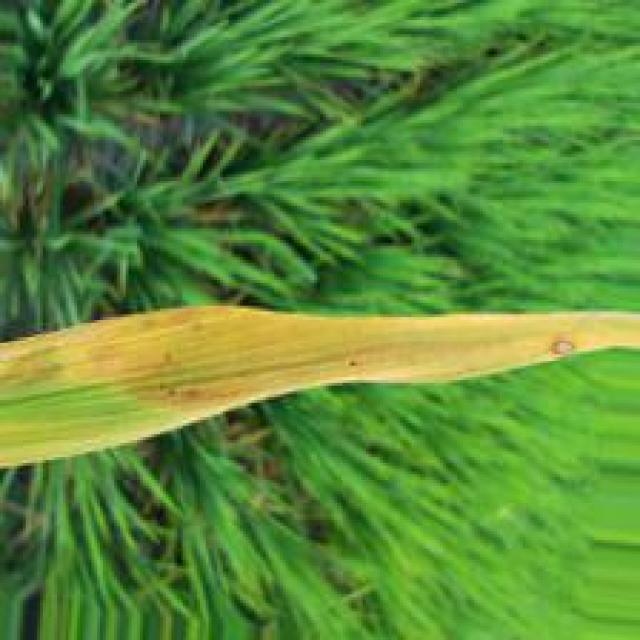Bacterial_Leaf_Blight: (1, 307, 597, 424)
